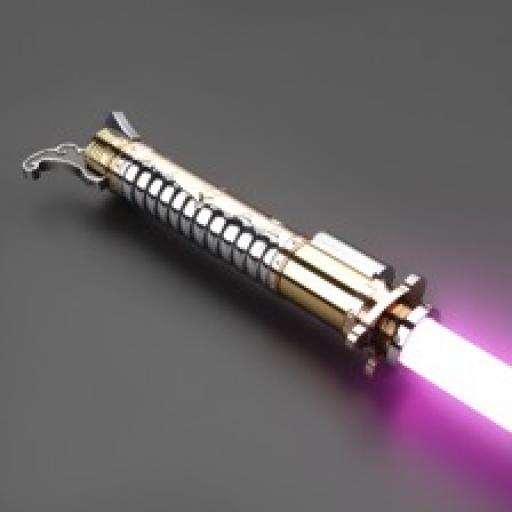lightsaber: (23, 106, 512, 437)
